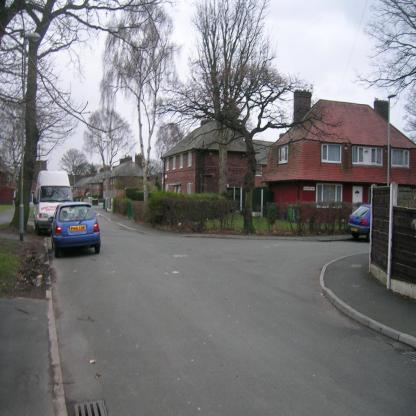Car: (49, 203, 102, 256), (349, 205, 370, 242)
